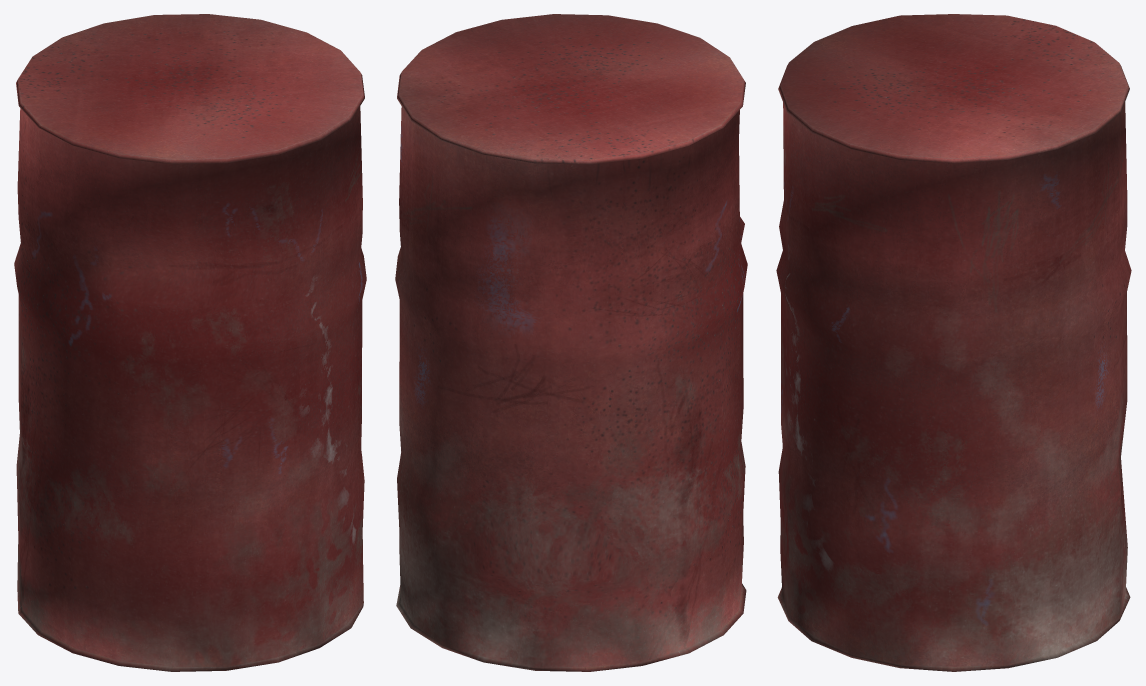
The model's file is Oil drum 1,2.fbx.
3 renders of one model, left to right at view 1: azimuth 30°, elevation 25°; view 2: azimuth 150°, elevation 25°; view 3: azimuth 270°, elevation 25°, orthographic.
Visible parts, largest first — view 1: Oil_Drum_LOD0; view 2: Oil_Drum_LOD0; view 3: Oil_Drum_LOD0.
Boxes of the visible parts, x1,y1,x2,y2 form: Oil_Drum_LOD0: (14, 14, 366, 671); Oil_Drum_LOD0: (395, 14, 747, 671); Oil_Drum_LOD0: (776, 14, 1131, 671).
Size of what is drawn, in the model's own units: 53.22 by 84.84 by 53.22.
